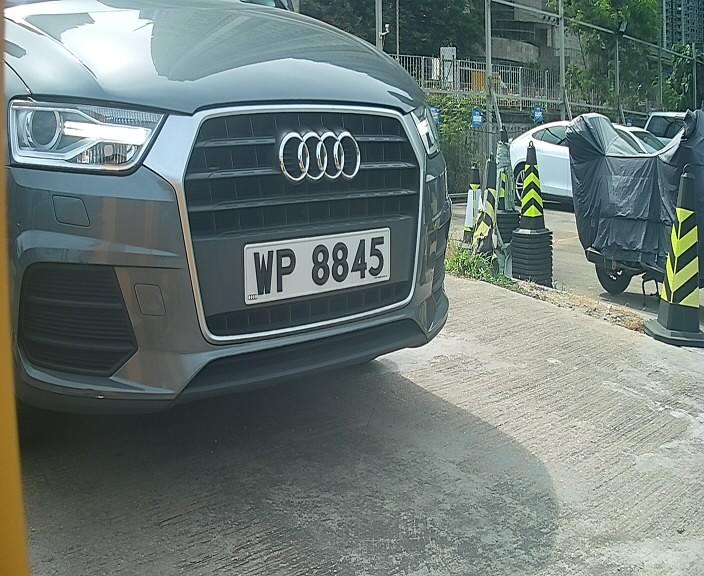License Plate: (236, 219, 397, 312)
